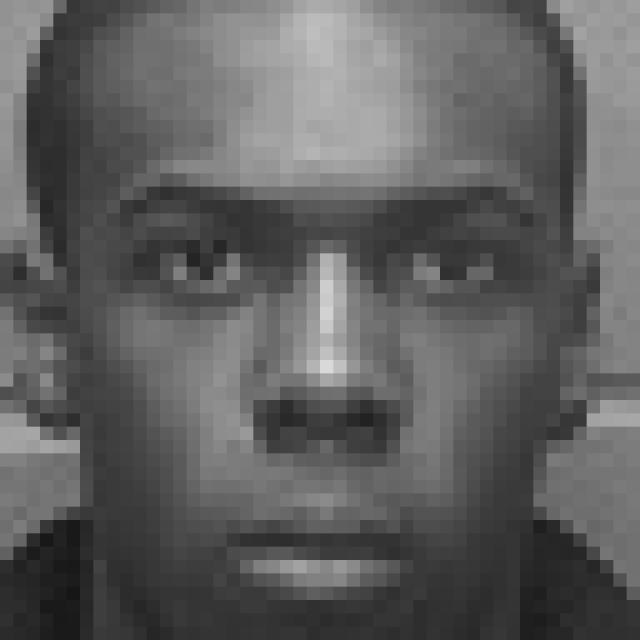neutral: (102, 160, 549, 622)
